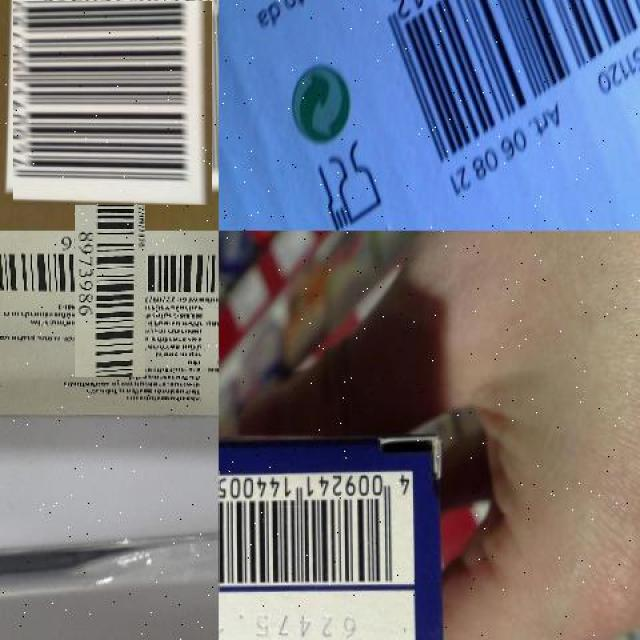Barcode: (367, 0, 640, 186), (10, 0, 216, 203), (218, 471, 414, 592), (37, 196, 182, 340)
